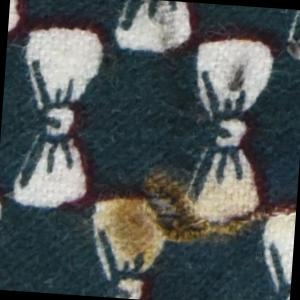Damage: (136, 165, 295, 257), (157, 2, 183, 54)
Oil Stain: (87, 144, 300, 300)
Stain: (222, 56, 256, 99)
